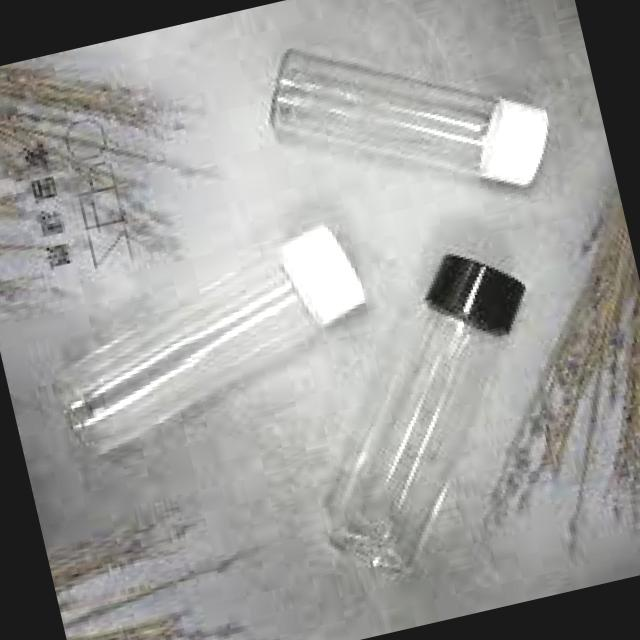bottle: (54, 225, 363, 454), (329, 254, 524, 573), (269, 50, 547, 184)
plastic: (279, 225, 363, 323), (479, 98, 547, 184)
